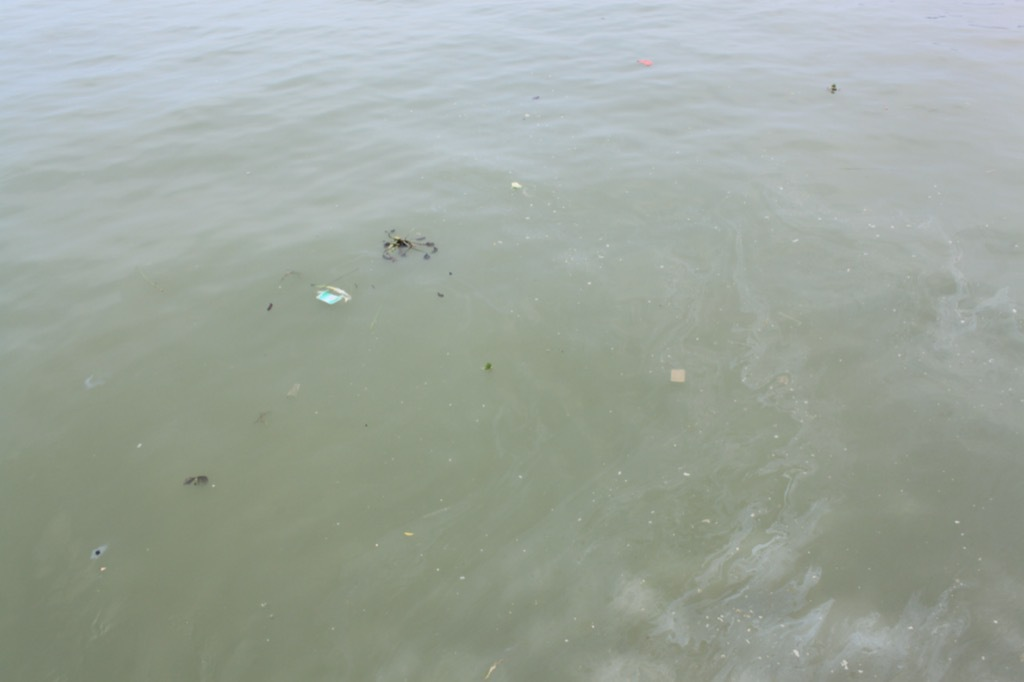organic: (371, 217, 445, 269), (262, 256, 319, 292), (245, 401, 283, 433), (476, 654, 516, 682), (176, 469, 214, 496), (473, 356, 504, 382), (822, 79, 843, 100), (401, 526, 419, 541), (527, 91, 546, 105), (435, 286, 448, 303), (445, 267, 458, 279), (362, 420, 371, 431), (266, 296, 271, 314)
plastic: (661, 359, 698, 402), (630, 51, 670, 85), (81, 532, 116, 570), (499, 172, 538, 200), (275, 377, 312, 406), (310, 285, 349, 311)
